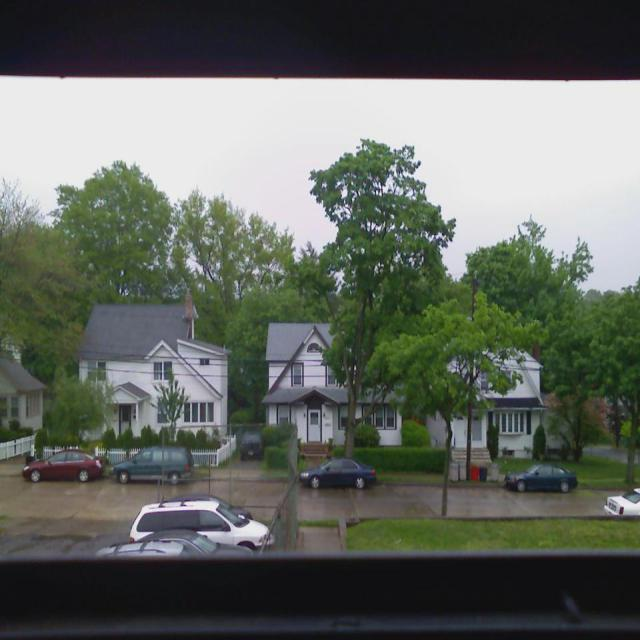car: (109, 444, 193, 484), (20, 448, 102, 483), (502, 462, 577, 491), (238, 429, 267, 459)
